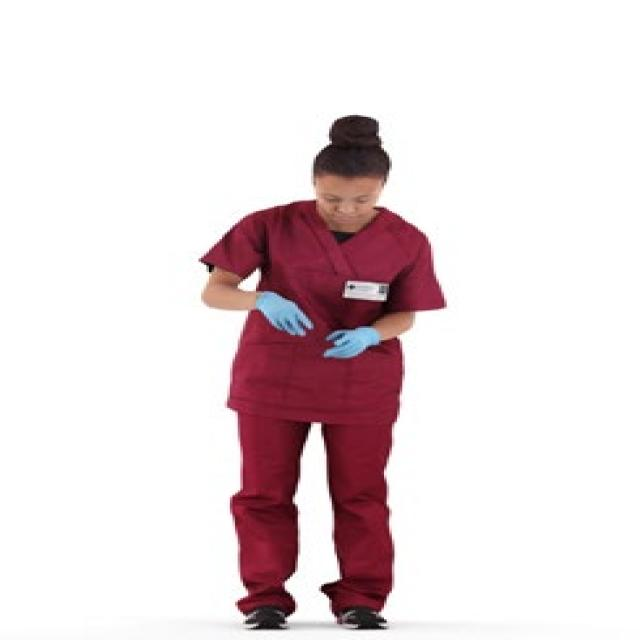standing: (189, 114, 453, 638)
